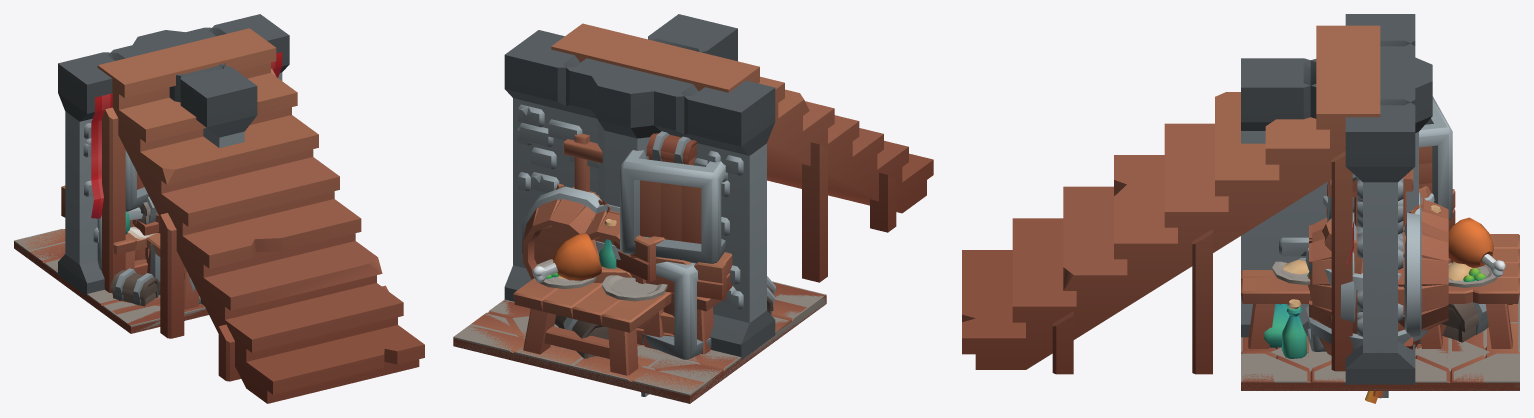
The model's file is rooms.glb.
3 renders of one model, left to right at view 1: azimuth 30°, elevation 25°; view 2: azimuth 150°, elevation 25°; view 3: azimuth 270°, elevation 25°, orthographic. The views are drawn at different scales.
Parts seen in each view (by area): view 1: stairs_wood, wall_arched, wall_corner, box_stacked, floor_wood_large, floor_tile_large, banner_triple_red, keg_decorated, wall_shelves, table_long_decorated_A, wall; view 2: stairs_wood, box_stacked, wall_shelves, wall_arched, floor_wood_large, table_long_decorated_A, floor_tile_large, wall_corner, keg_decorated, table_long, pillar, wall (+6 smaller); view 3: stairs_wood, wall, wall_arched, wall_corner, box_stacked, keg_decorated, table_long_decorated_A, floor_tile_large, floor_wood_large, table_long, wall_shelves, pillar_decorated (+5 smaller).
Part boxes in pixels (x1=…): stairs_wood: x1=97, y1=28, x2=424, y2=403; wall_arched: x1=58, y1=14, x2=289, y2=296; wall_corner: x1=169, y1=63, x2=257, y2=305; box_stacked: x1=97, y1=150, x2=200, y2=306; floor_wood_large: x1=14, y1=229, x2=208, y2=333; floor_tile_large: x1=14, y1=229, x2=208, y2=333; banner_triple_red: x1=91, y1=52, x2=282, y2=218; keg_decorated: x1=61, y1=185, x2=156, y2=275; wall_shelves: x1=89, y1=53, x2=158, y2=235; table_long_decorated_A: x1=147, y1=237, x2=199, y2=309; wall: x1=80, y1=52, x2=124, y2=283; stairs_wood: x1=551, y1=23, x2=933, y2=282; box_stacked: x1=554, y1=131, x2=775, y2=359; wall_shelves: x1=504, y1=55, x2=747, y2=356; wall_arched: x1=505, y1=30, x2=775, y2=359; floor_wood_large: x1=453, y1=282, x2=826, y2=403; table_long_decorated_A: x1=513, y1=219, x2=669, y2=375; floor_tile_large: x1=453, y1=281, x2=826, y2=402; wall_corner: x1=648, y1=14, x2=749, y2=327; keg_decorated: x1=522, y1=186, x2=732, y2=354; table_long: x1=513, y1=278, x2=668, y2=375; pillar: x1=591, y1=76, x2=660, y2=198; wall: x1=507, y1=46, x2=774, y2=181; stairs_wood: x1=962, y1=25, x2=1380, y2=374; wall: x1=1345, y1=87, x2=1415, y2=384; wall_arched: x1=1345, y1=14, x2=1415, y2=384; wall_corner: x1=1241, y1=40, x2=1404, y2=337; box_stacked: x1=1264, y1=96, x2=1488, y2=358; keg_decorated: x1=1309, y1=212, x2=1448, y2=349; table_long_decorated_A: x1=1241, y1=205, x2=1519, y2=348; floor_tile_large: x1=1241, y1=294, x2=1519, y2=390; floor_wood_large: x1=1241, y1=304, x2=1519, y2=390; table_long: x1=1241, y1=234, x2=1519, y2=332; wall_shelves: x1=1328, y1=41, x2=1415, y2=384; pillar_decorated: x1=1323, y1=58, x2=1432, y2=222.
Size of the model in its own units: 4 by 5.25 by 8.
Materials: 1 (1 with a texture image).
